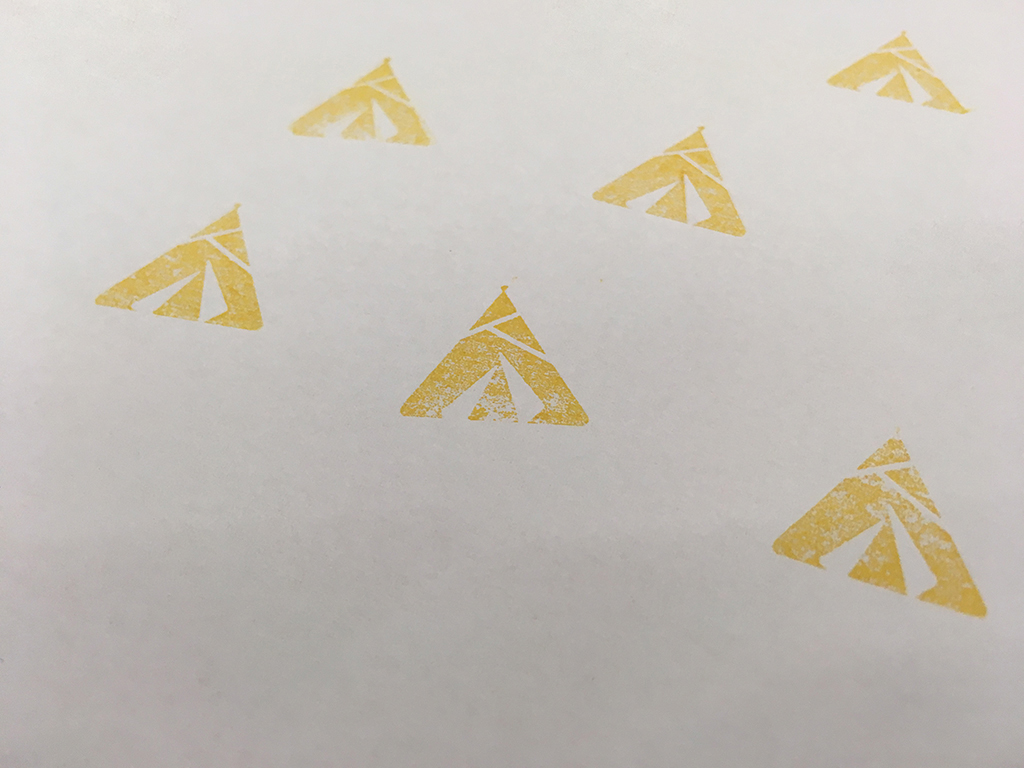tent: (764, 421, 996, 626), (390, 278, 603, 436), (85, 193, 271, 335), (586, 120, 758, 242), (280, 53, 439, 153), (824, 25, 977, 123)
